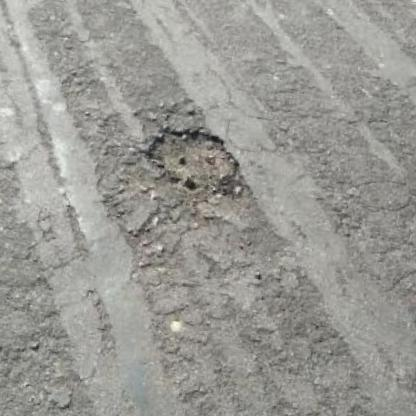pothole: (137, 118, 251, 199)
